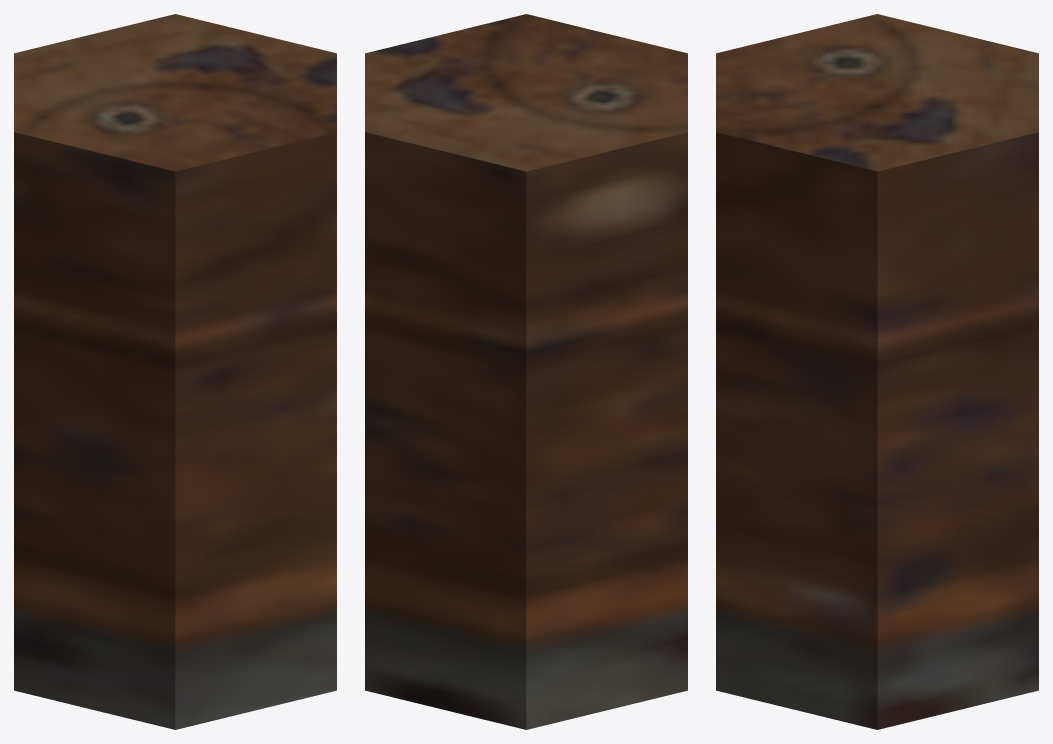
The model's file is BarrelLOD.obj.
The picture shows the model from 3 angles, left to right: view 1: azimuth 30°, elevation 25°; view 2: azimuth 150°, elevation 25°; view 3: azimuth 270°, elevation 25°; orthographic projection.
Parts seen in each view (by area): view 1: collider; view 2: collider; view 3: collider.
Boxes of the visible parts, x1=… form: collider: x1=14, y1=14, x2=336, y2=729; collider: x1=365, y1=14, x2=687, y2=729; collider: x1=716, y1=14, x2=1038, y2=729.
Size of the model in its own units: 59.64 by 98.57 by 51.65.
